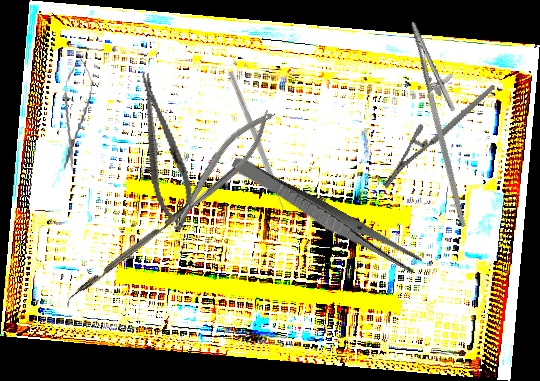Chopper: (175, 69, 333, 222), (61, 203, 197, 310)
Dressing Forceps: (226, 153, 425, 278)
Micro Scissor: (53, 56, 97, 173)
Needle Holder: (385, 15, 506, 228), (158, 103, 283, 234), (363, 84, 515, 190), (127, 69, 201, 234)
